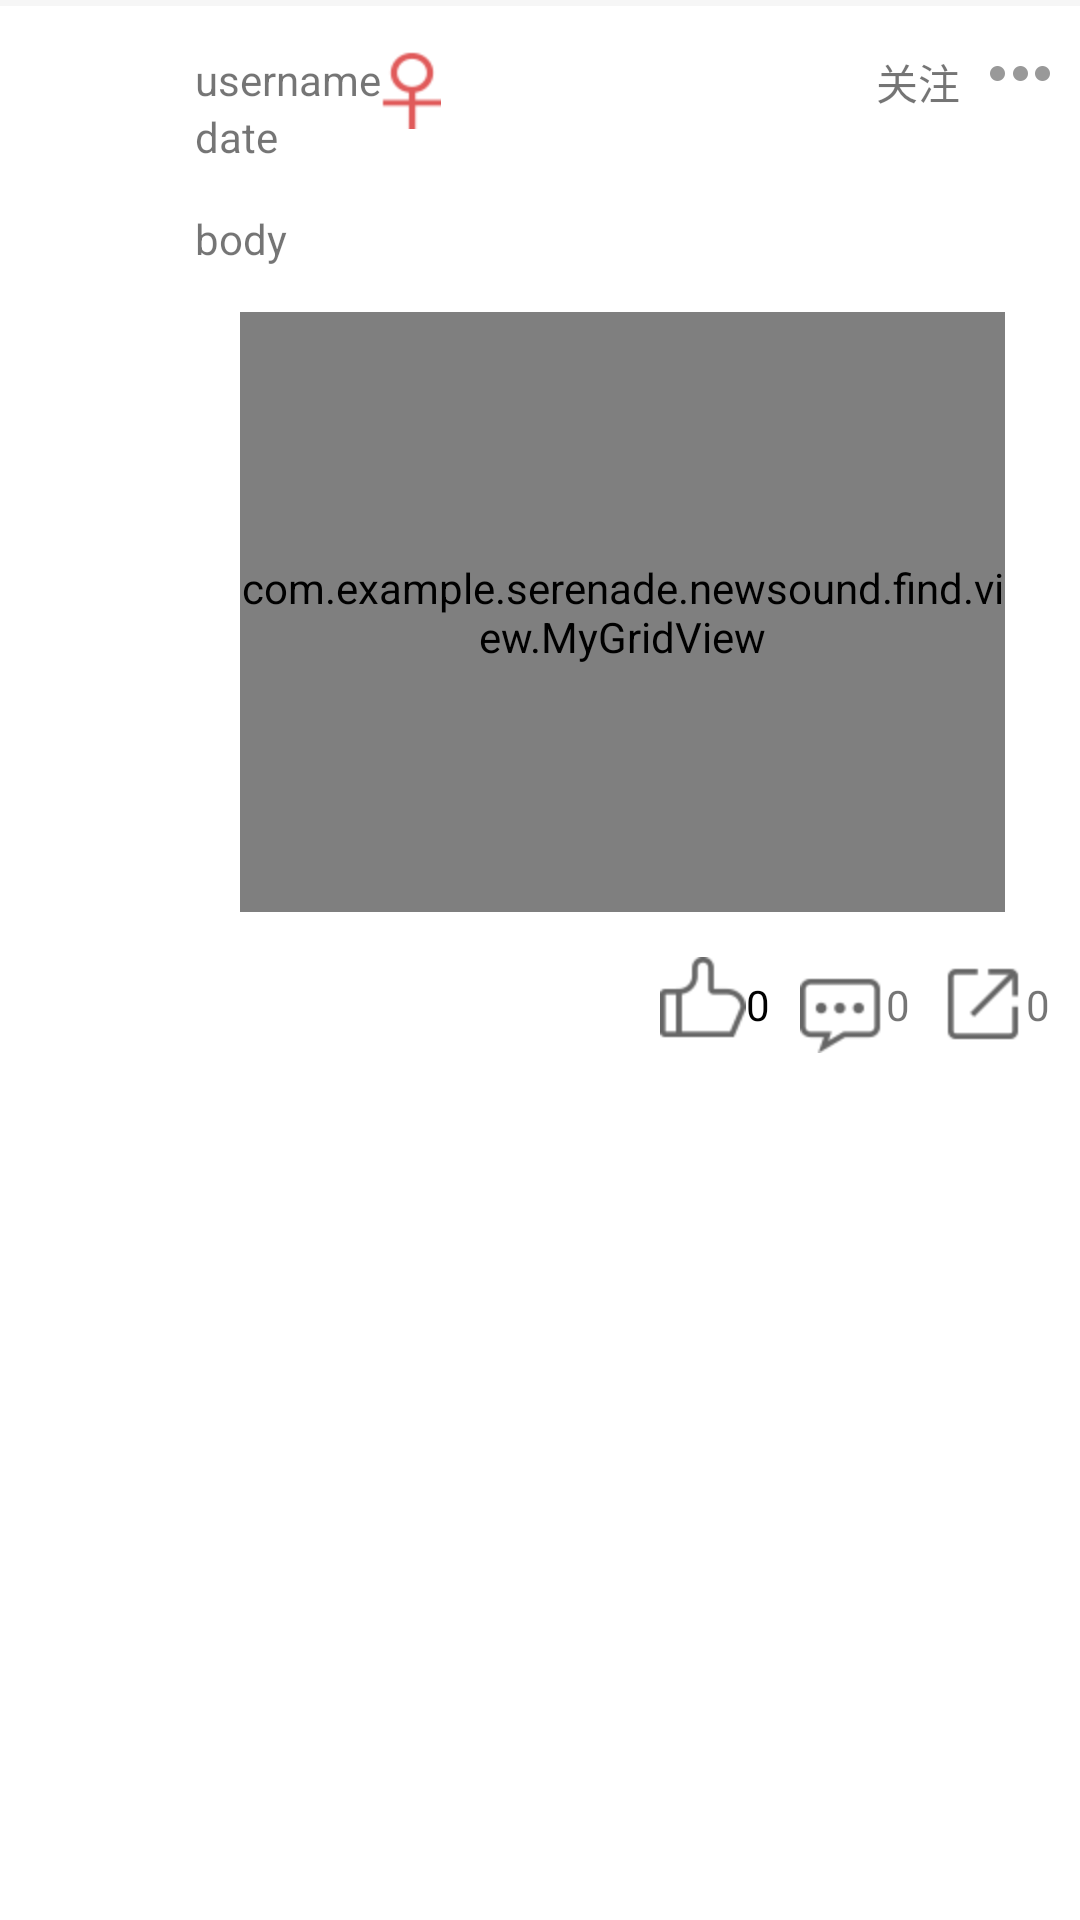

Named icons in this screenshot (1080w x 1920h) and their centers, (x=x, y=y):
found girl: (x=411, y=90)
found more: (x=1020, y=73)
